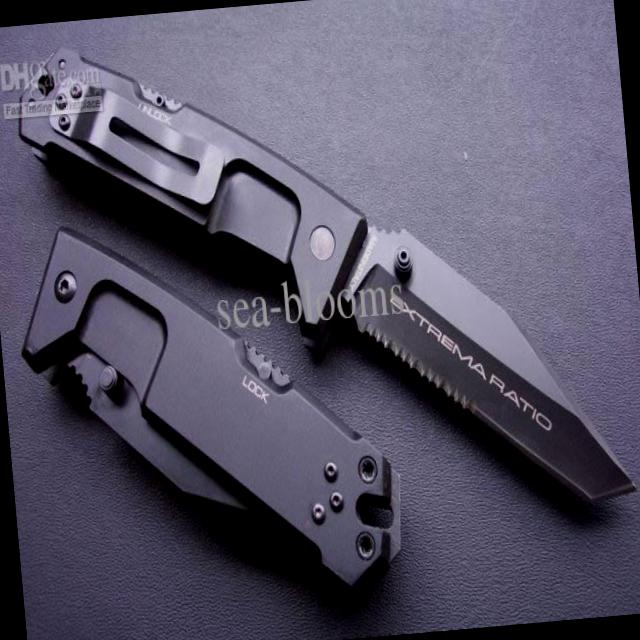knife: (333, 188, 639, 547)
